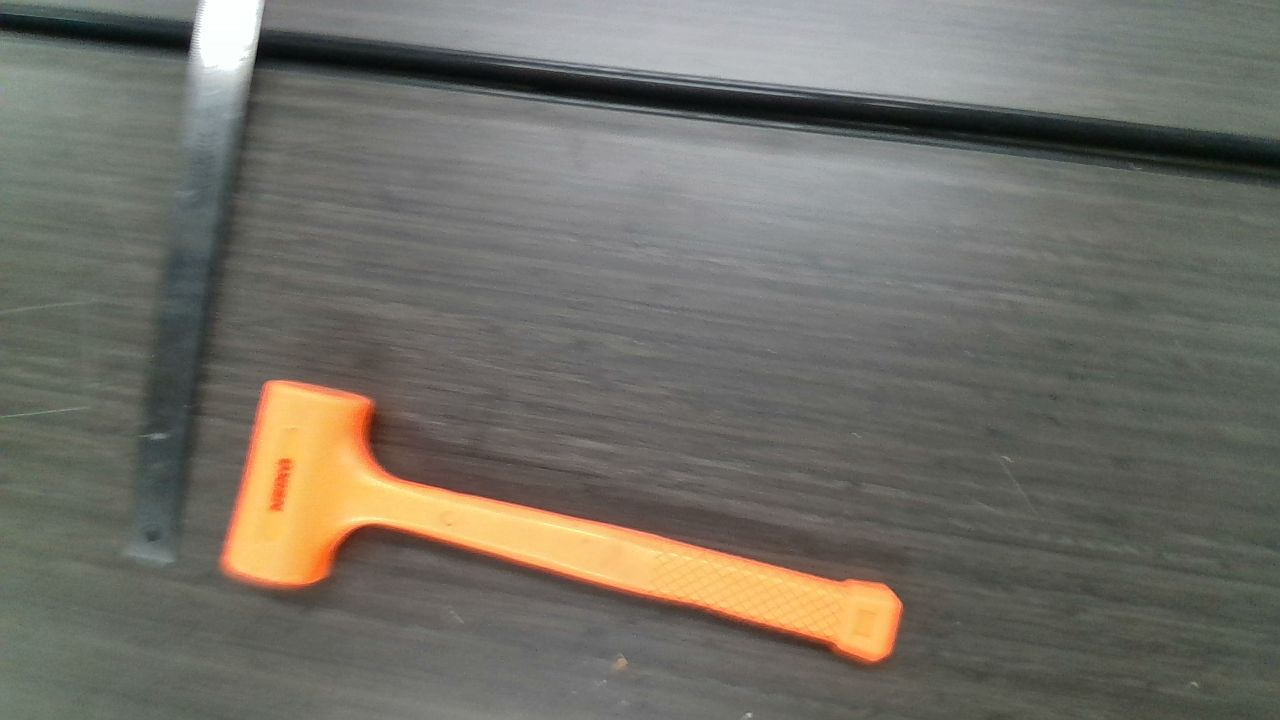Orange Hammer: (230, 378, 903, 665)
